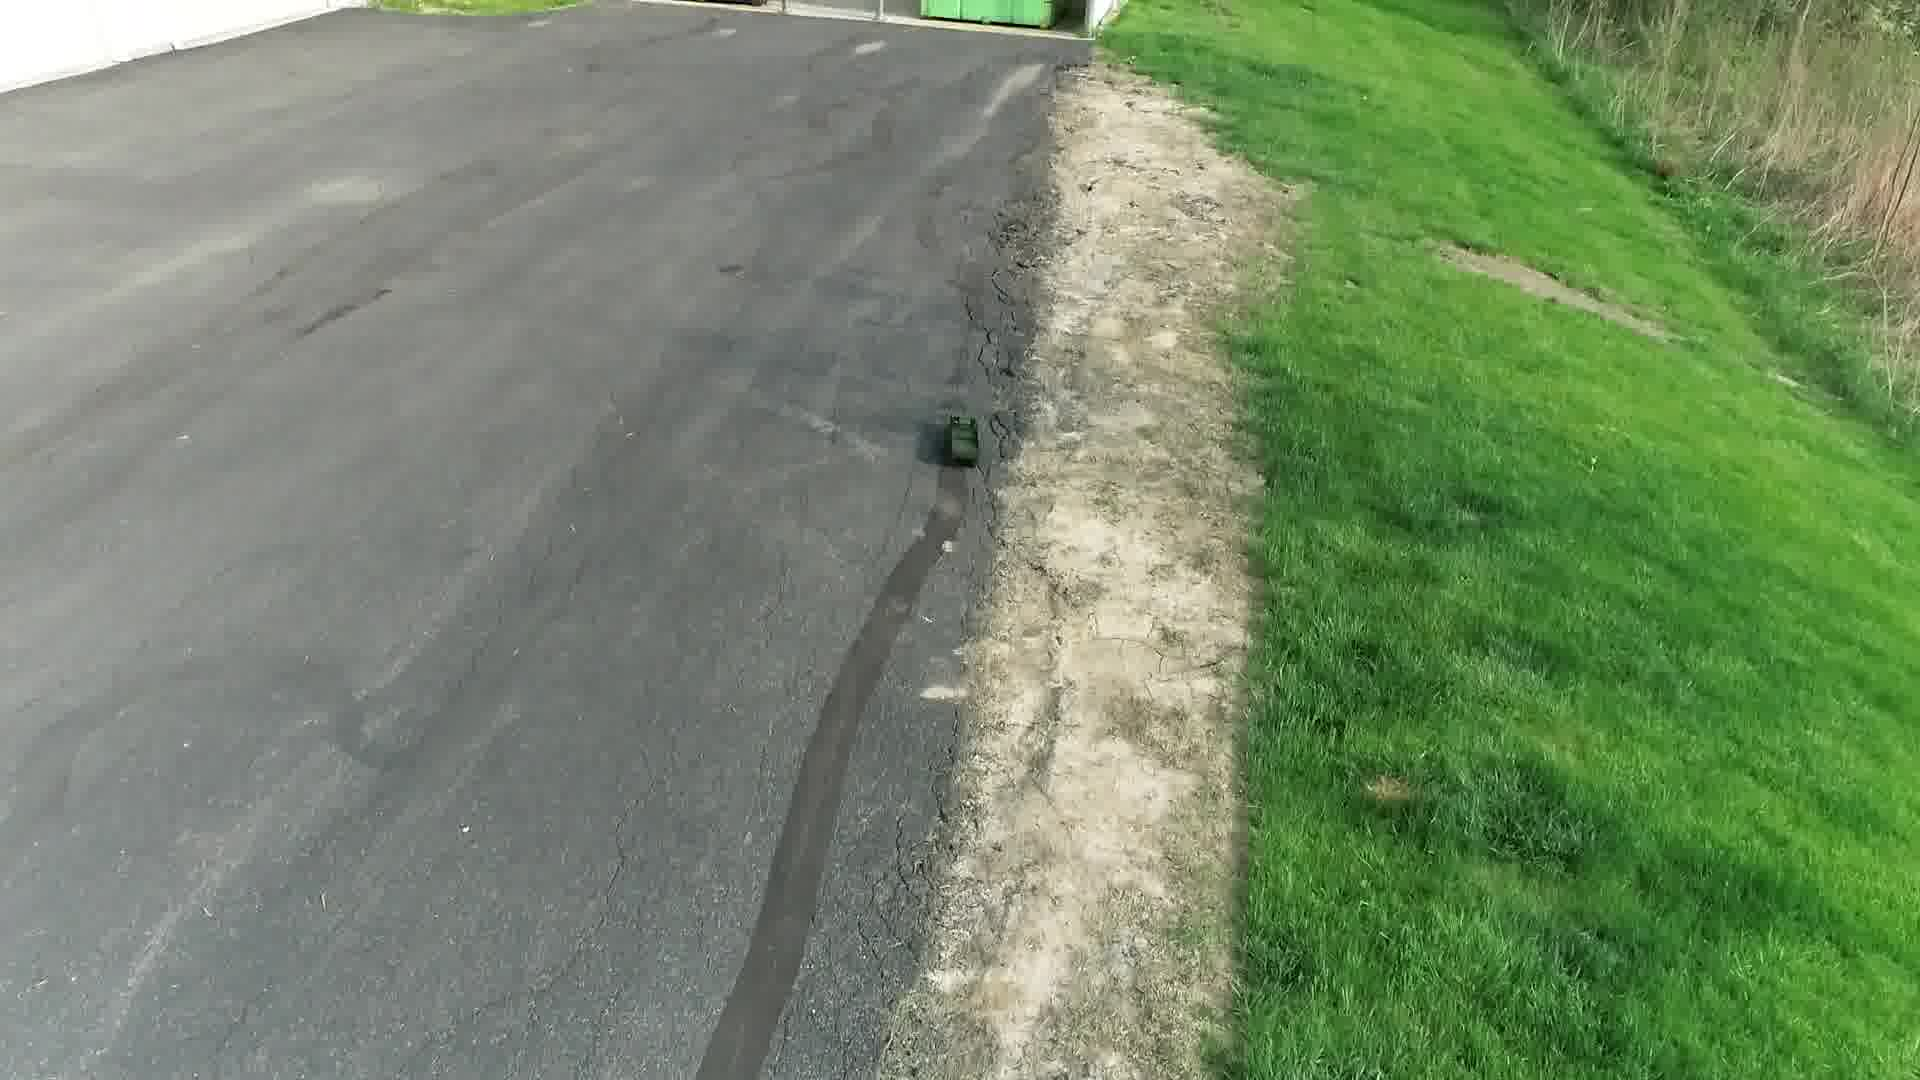transporter9: (945, 411, 985, 469)
